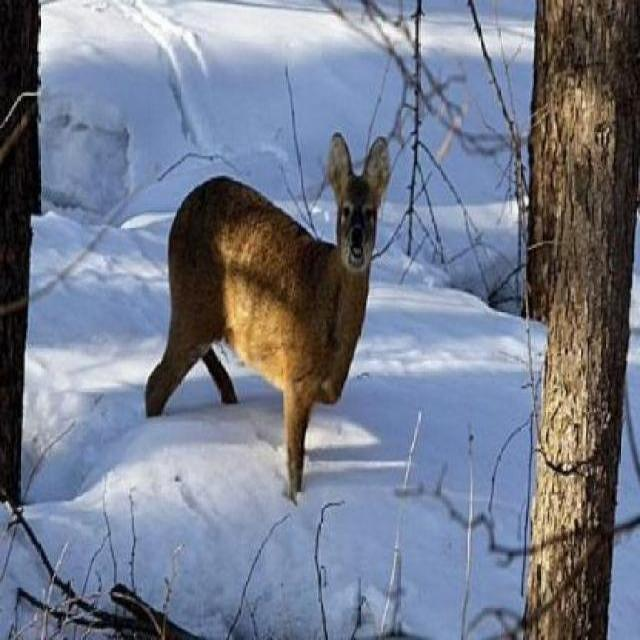deer: (143, 121, 399, 502)
